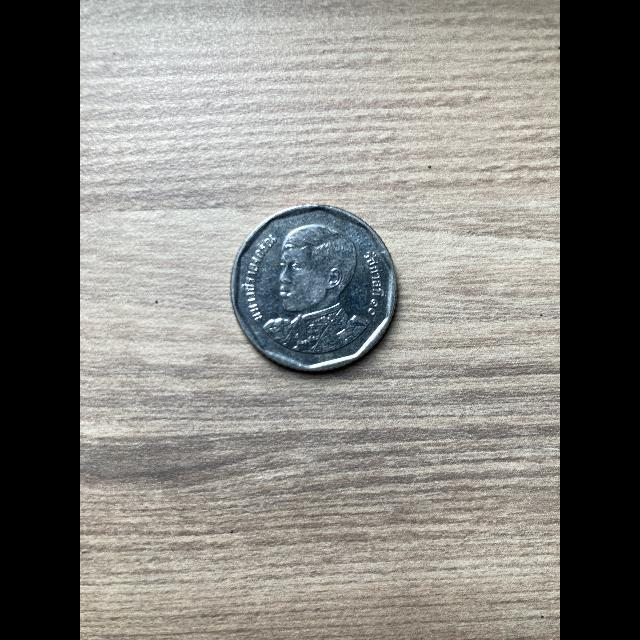5 Bath: (230, 200, 403, 377)
